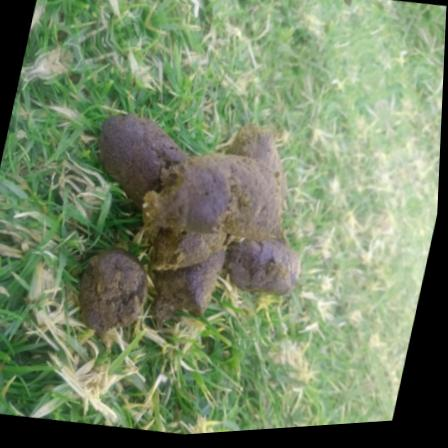dog-poop: (64, 99, 322, 375)
